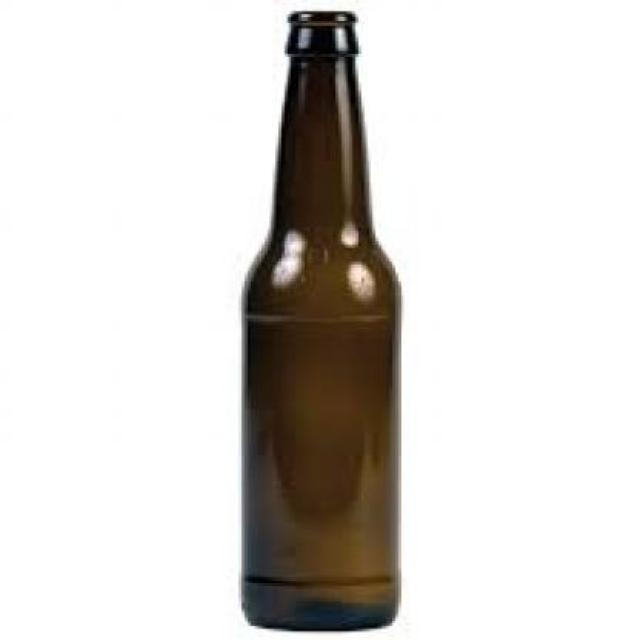kaca: (237, 12, 401, 630)
